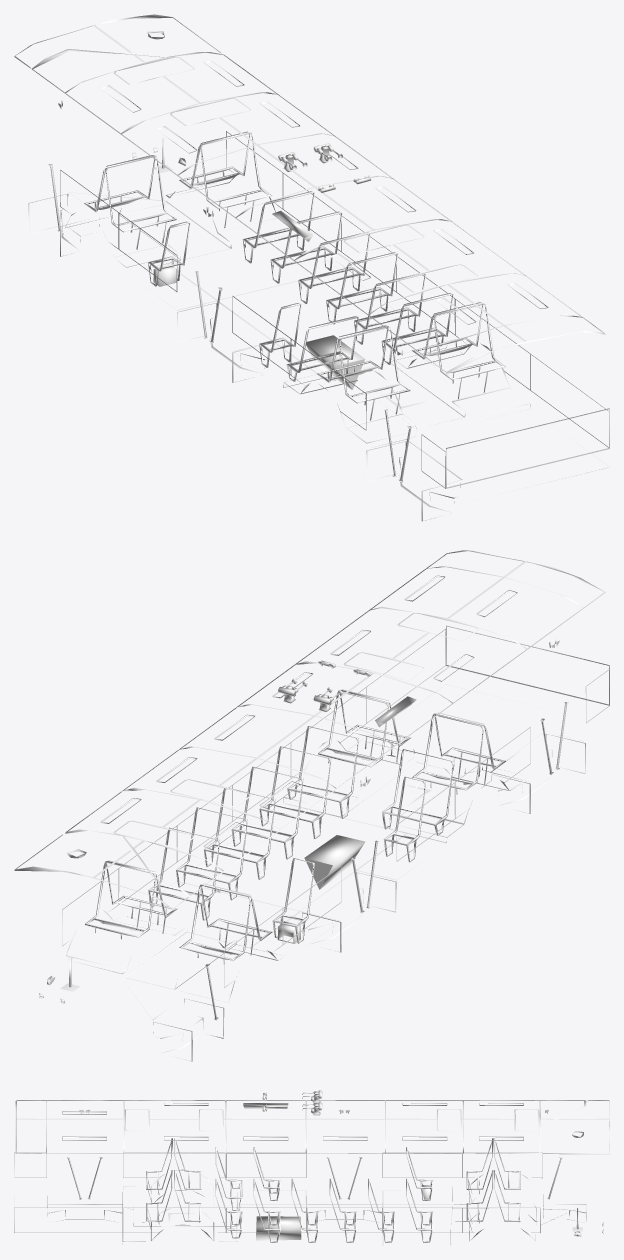
The picture shows the model from 3 angles, top to bottom: view 1: azimuth 30°, elevation 25°; view 2: azimuth 150°, elevation 25°; view 3: azimuth 270°, elevation 25°; orthographic projection. The views are drawn at different scales.
Bounding box in the file's own units: 2.32 × 2.79 × 10.65.
1 material, 1 textured.
